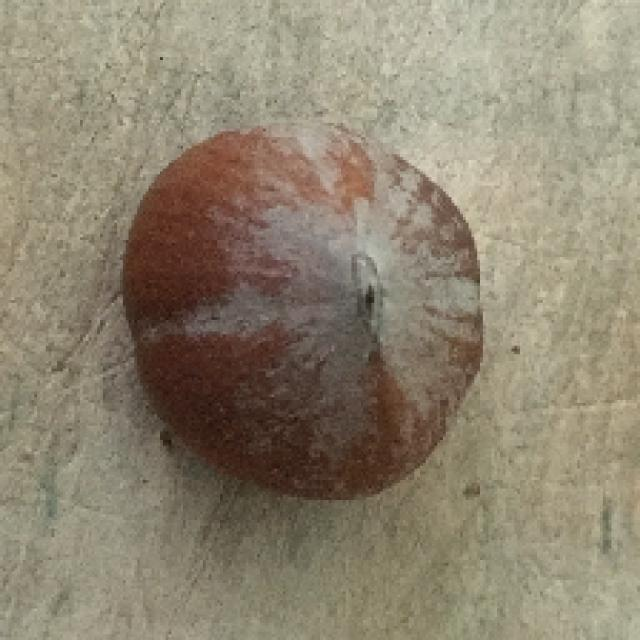qualityHazelnut: (119, 125, 484, 503)
